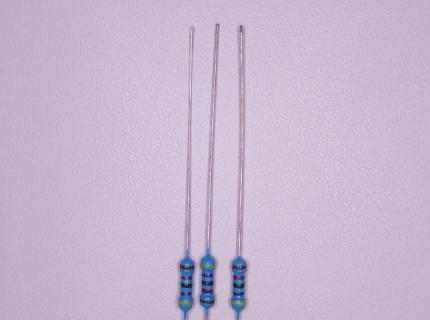Black band: (233, 283, 245, 288), (180, 283, 192, 288), (180, 291, 192, 296), (202, 281, 214, 285)
Brown band: (180, 264, 194, 270), (200, 299, 215, 304), (232, 265, 247, 269)
Red band: (233, 275, 245, 280), (202, 288, 213, 293), (181, 276, 193, 280)
Violet band: (233, 292, 245, 296), (202, 273, 213, 277)
Yellow band: (231, 301, 246, 306), (200, 263, 215, 268), (178, 301, 193, 306)
